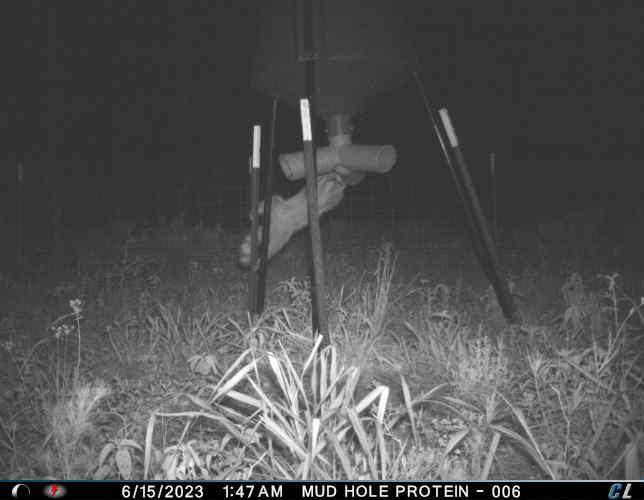Raccoon: (235, 172, 346, 269)
